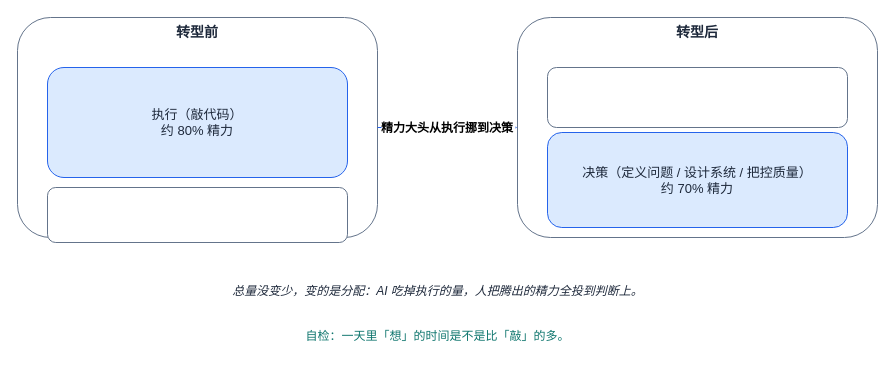
This 895x380 diagram has some shape labels left out. Each missing label, with the centre of its shape:
决策 约 20%: the point at 197,214
执行（交给 AI + 把关） 约 30% 精力: the point at 697,97
